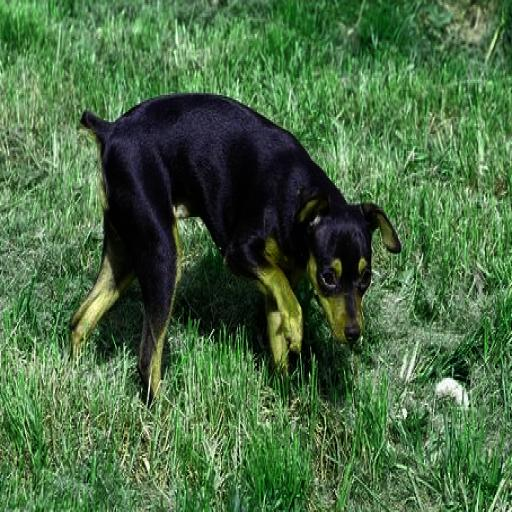dog_face: (300, 176, 403, 355)
